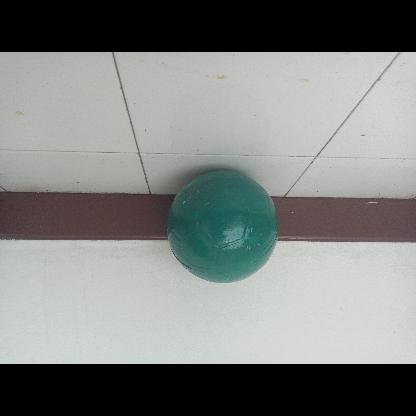green_ball: (166, 171, 280, 286)
